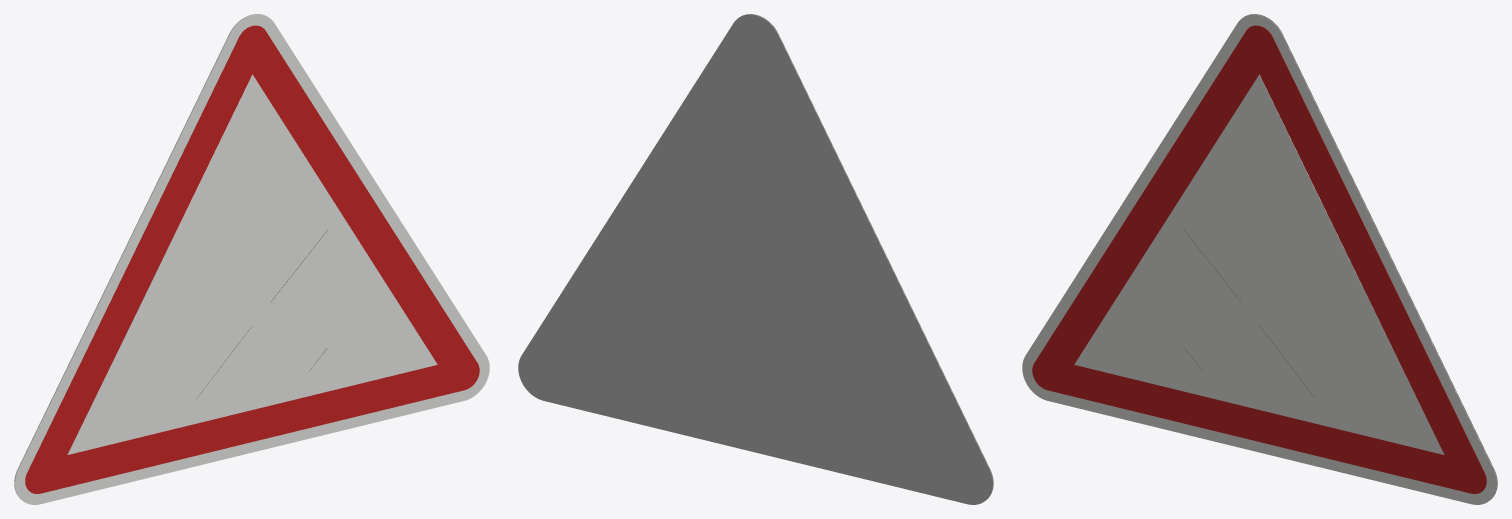
The picture shows the model from 3 angles, left to right: view 1: azimuth 30°, elevation 25°; view 2: azimuth 150°, elevation 25°; view 3: azimuth 330°, elevation 25°; orthographic projection.
Parts seen in each view (by area): view 1: AB1_p02, AB1_p01, AB1_p00, AB1_dos; view 2: AB1_dos, AB1_p00; view 3: AB1_p02, AB1_p01, AB1_p00, AB1_dos.
Part boxes in pixels (x1,y1,x2,y2): AB1_p02: (67,74,437,454); AB1_p01: (25,25,479,493); AB1_p00: (15,14,489,504); AB1_dos: (14,14,267,499); AB1_dos: (518,14,992,504); AB1_p00: (740,14,993,499); AB1_p02: (1074,74,1444,454); AB1_p01: (1032,25,1486,493); AB1_p00: (1022,14,1496,504); AB1_dos: (1244,14,1497,499).
Size of the model in its own units: 0.7 by 0.6162 by 0.0031.
